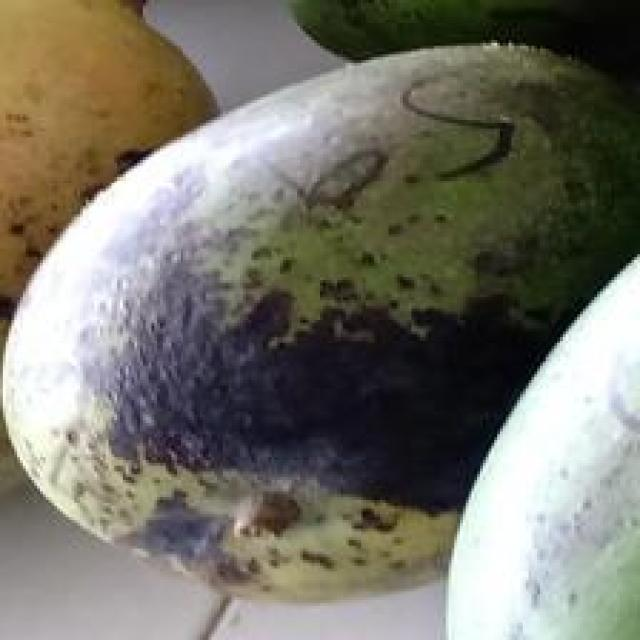Mango: (3, 60, 640, 594), (0, 2, 225, 354), (446, 254, 639, 640)
